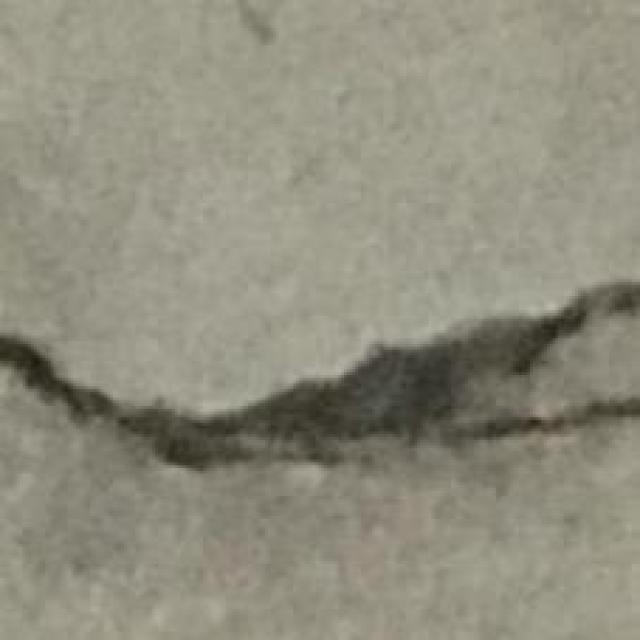branched cracks: (0, 282, 639, 469)
